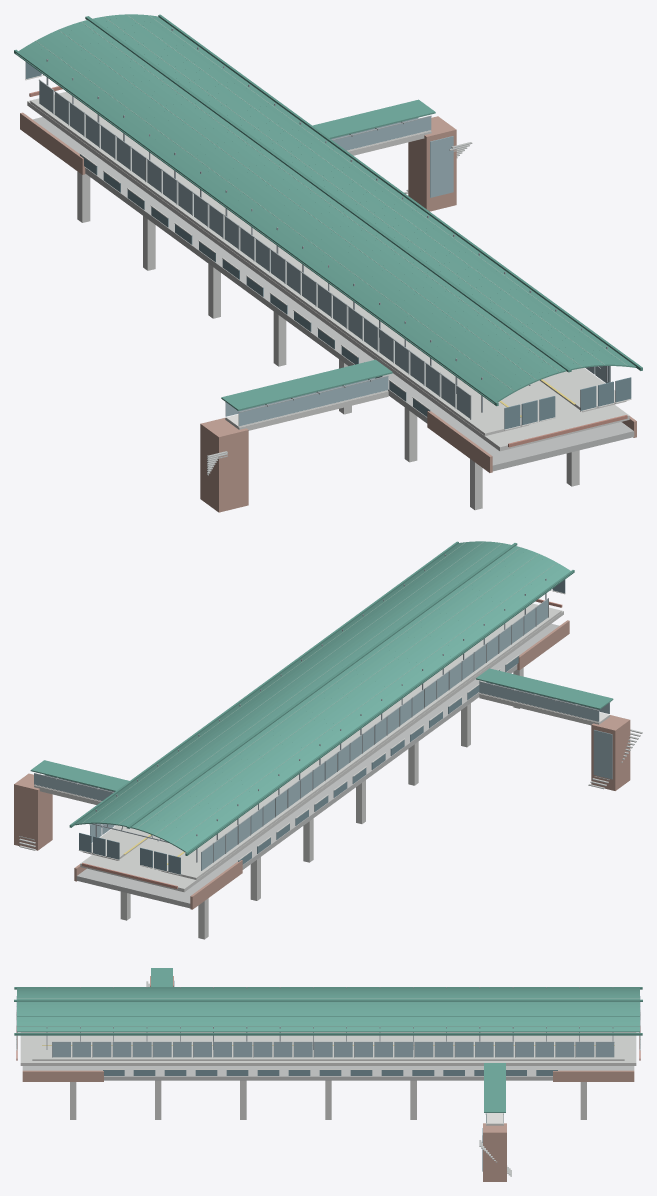
3 renders of one model, top to bottom at view 1: azimuth 30°, elevation 25°; view 2: azimuth 150°, elevation 25°; view 3: azimuth 270°, elevation 25°, orthographic. The views are drawn at different scales.
Visible parts, largest first — view 1: MRT6 station 3 concept geometry; view 2: MRT6 station 3 concept geometry; view 3: MRT6 station 3 concept geometry.
Part boxes in pixels (left/top/right/bottom): MRT6 station 3 concept geometry: left=14, top=14, right=642, bottom=512; MRT6 station 3 concept geometry: left=14, top=541, right=642, bottom=939; MRT6 station 3 concept geometry: left=14, top=968, right=642, bottom=1181.
Size of the model in its own units: 101 by 29.49 by 162.
